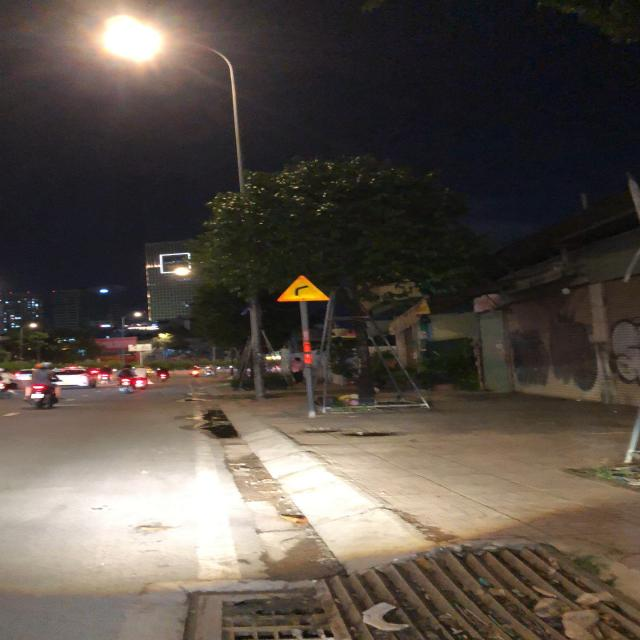Bien bao cho ngoat nguy hiem: (276, 270, 332, 304)
